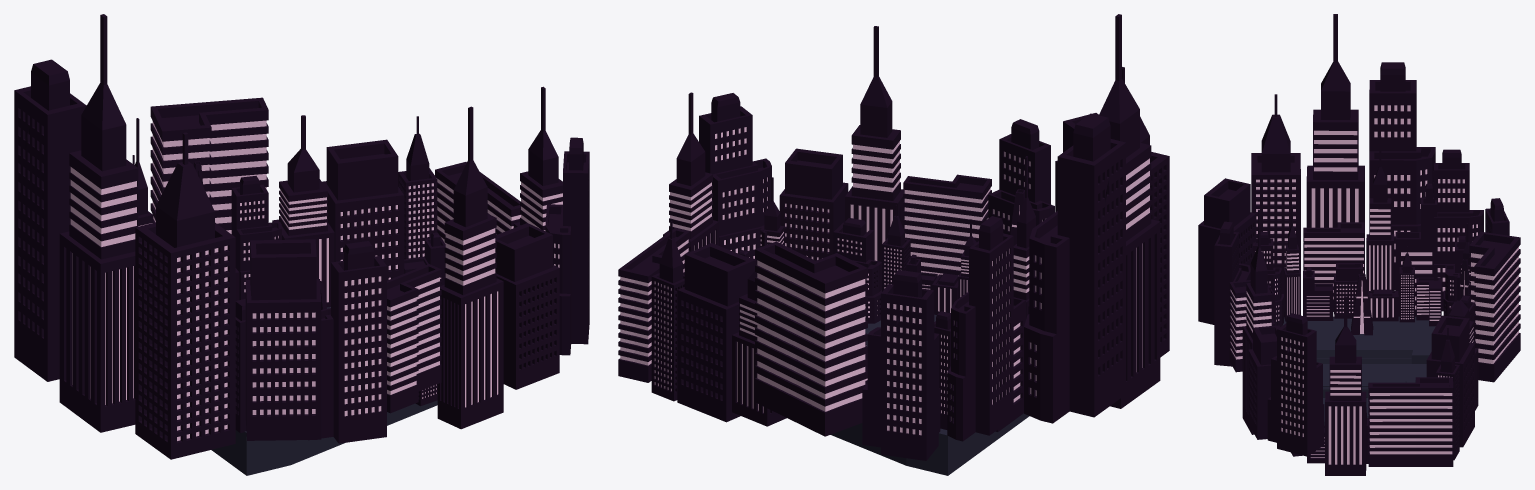
File: nagasawaGround02.obj
3 renders of one model, left to right at view 1: azimuth 30°, elevation 25°; view 2: azimuth 150°, elevation 25°; view 3: azimuth 270°, elevation 25°, orthographic. The views are drawn at different scales.
Visible parts, largest first — view 1: Building17.053; view 2: Building17.053; view 3: Building17.053.
Boxes of the visible parts, box(x1,y1,x2,y2) form: Building17.053: box(14, 14, 589, 475); Building17.053: box(618, 14, 1169, 475); Building17.053: box(1198, 14, 1520, 475).
Size of the model in its own units: 357 by 300 by 287.
